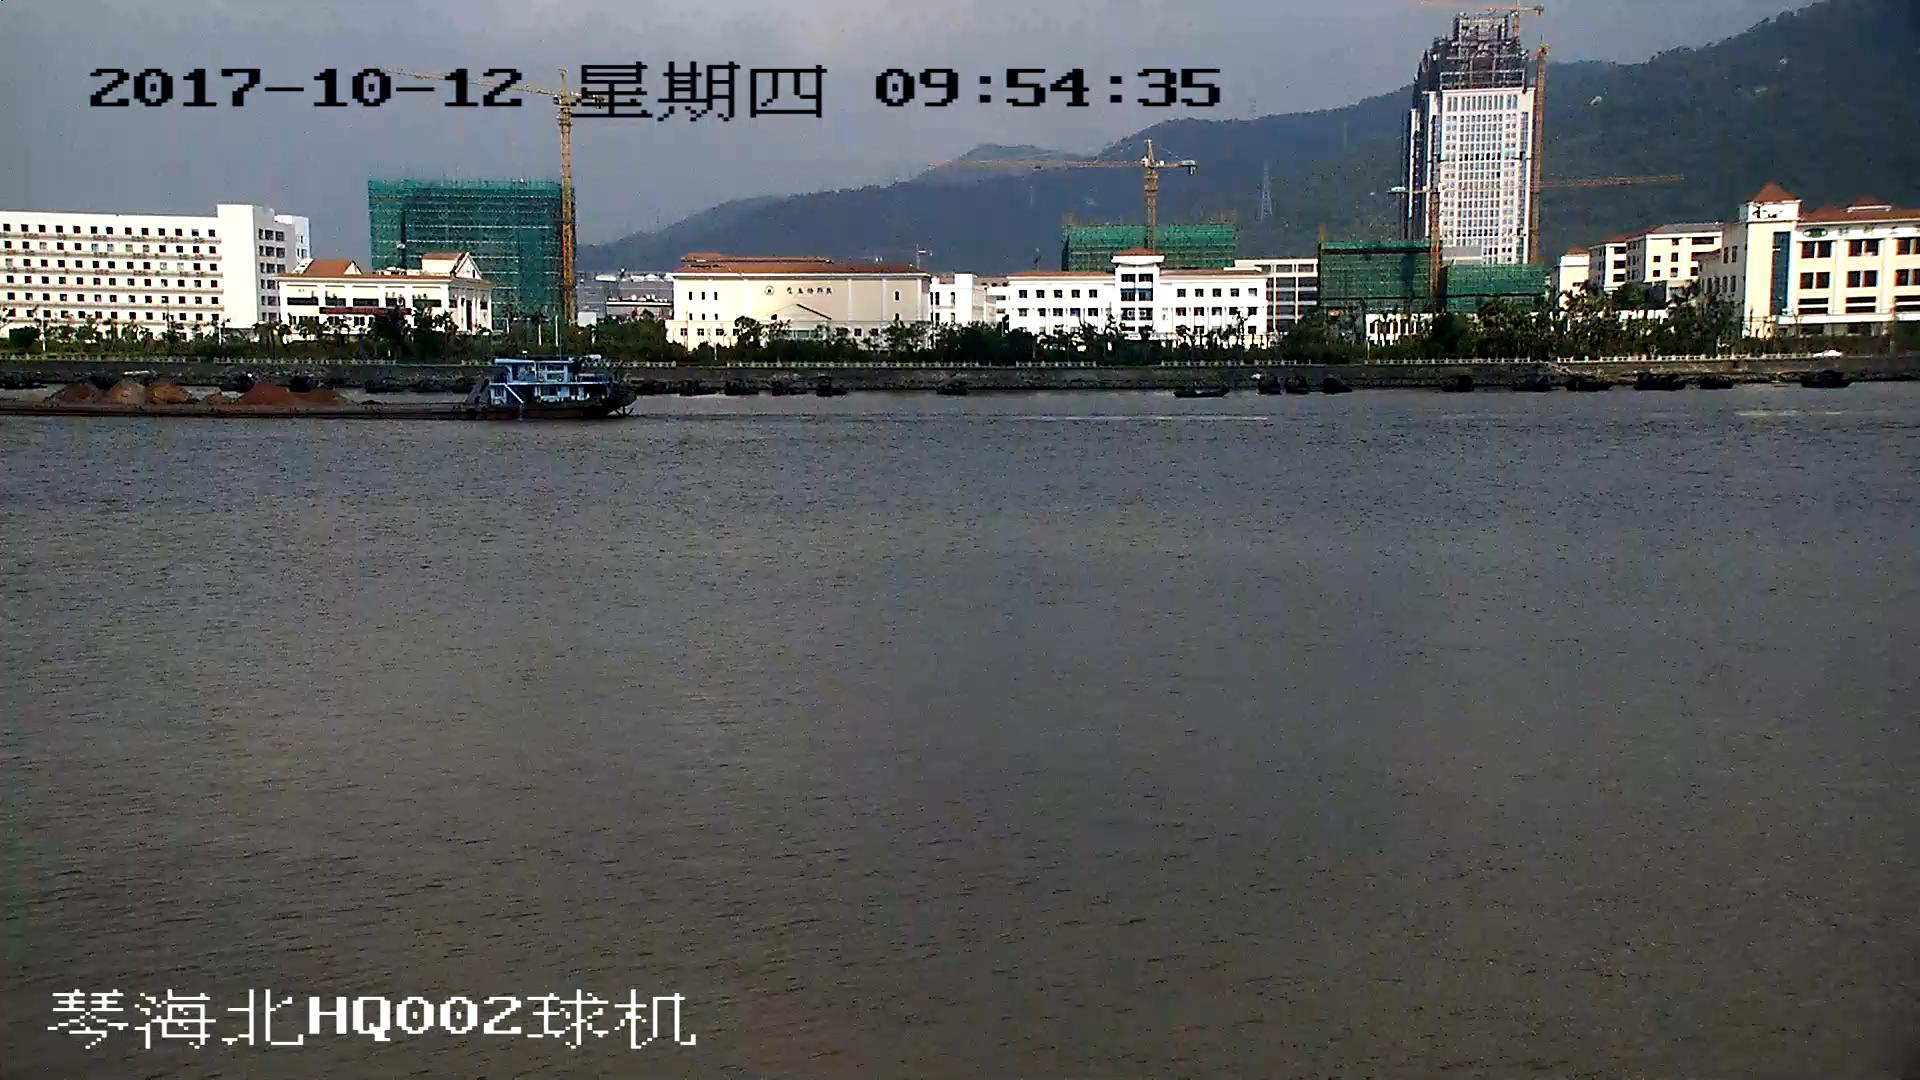ore carrier: (1, 355, 634, 423)
